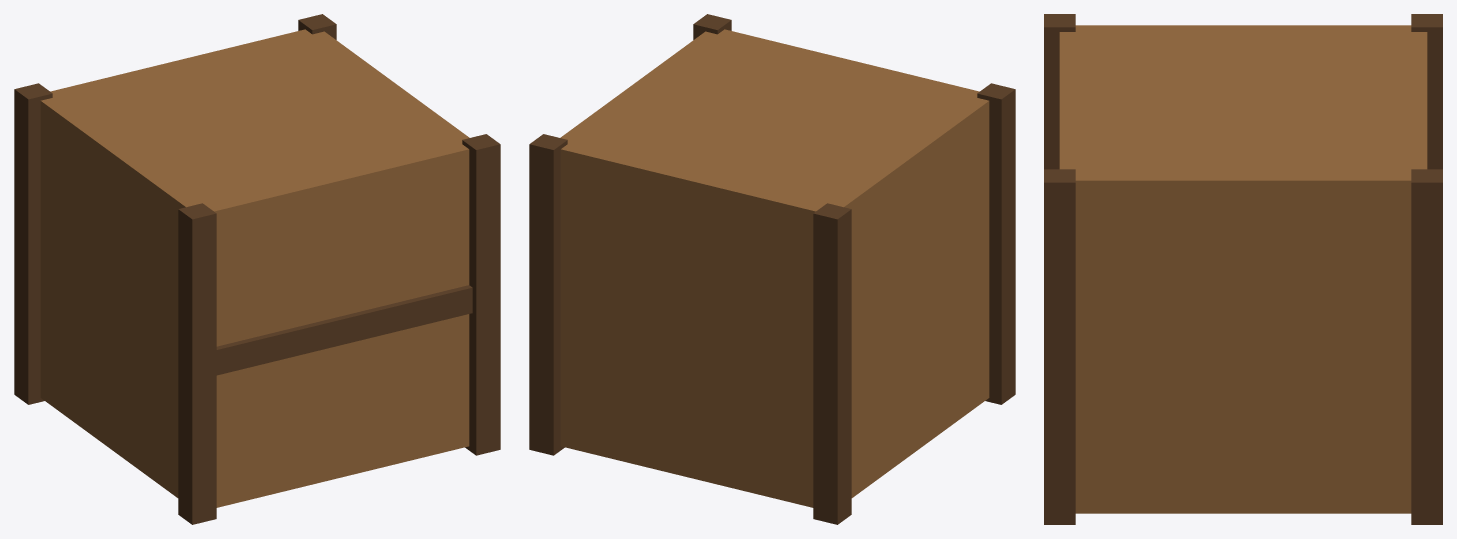
The model's file is crate.glb.
3 renders of one model, left to right at view 1: azimuth 30°, elevation 25°; view 2: azimuth 150°, elevation 25°; view 3: azimuth 270°, elevation 25°, orthographic. The views are drawn at different scales.
Parts seen in each view (by area): view 1: crate; view 2: crate; view 3: crate.
Boxes of the visible parts, x1=… form: crate: x1=14, y1=14, x2=500, y2=524; crate: x1=529, y1=14, x2=1015, y2=524; crate: x1=1044, y1=14, x2=1442, y2=524.
Size of what is drawn, in the model's own units: 0.76 by 0.72 by 0.76.
